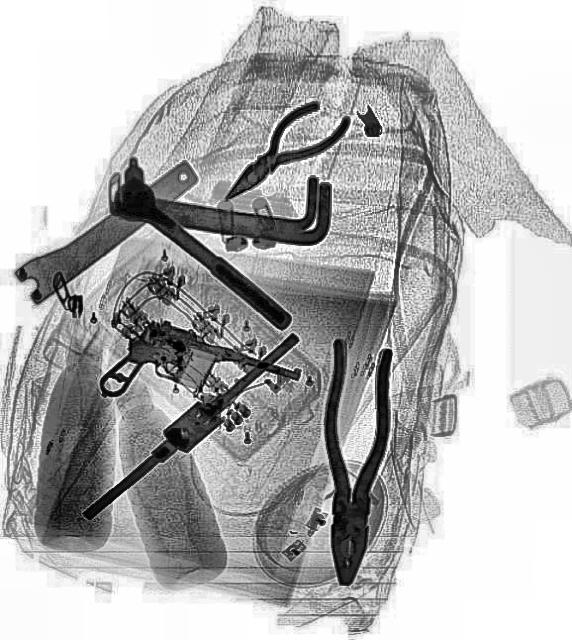Gun: (94, 304, 302, 456)
Pliers: (202, 82, 356, 220), (311, 336, 395, 588)
